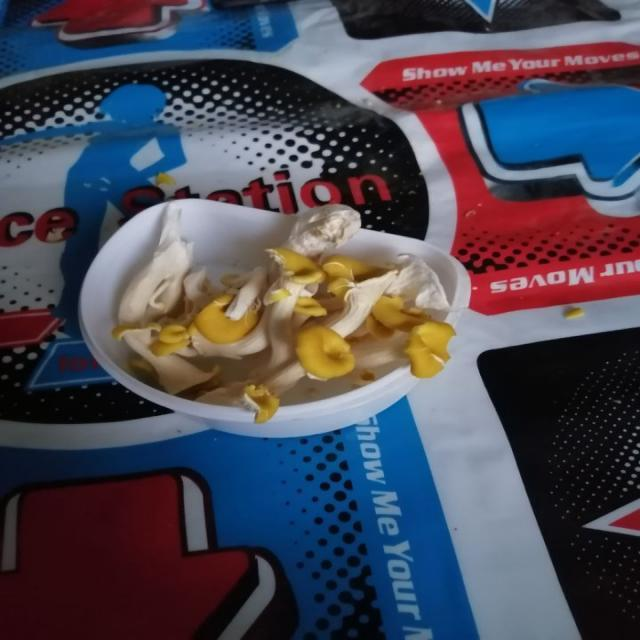Pleurotus citrinopileatus: (123, 199, 457, 420)
